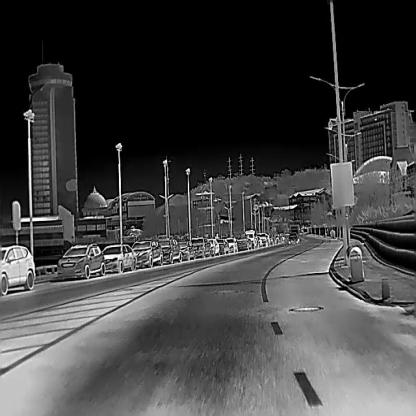car: (0, 242, 36, 296), (56, 242, 105, 280), (101, 244, 136, 273), (130, 239, 163, 267), (156, 238, 182, 262), (190, 236, 212, 258), (176, 238, 196, 261), (207, 238, 220, 257), (216, 237, 229, 255), (224, 237, 238, 253), (244, 232, 258, 248), (237, 234, 250, 251), (287, 230, 299, 244)
truck: (288, 218, 300, 232)
